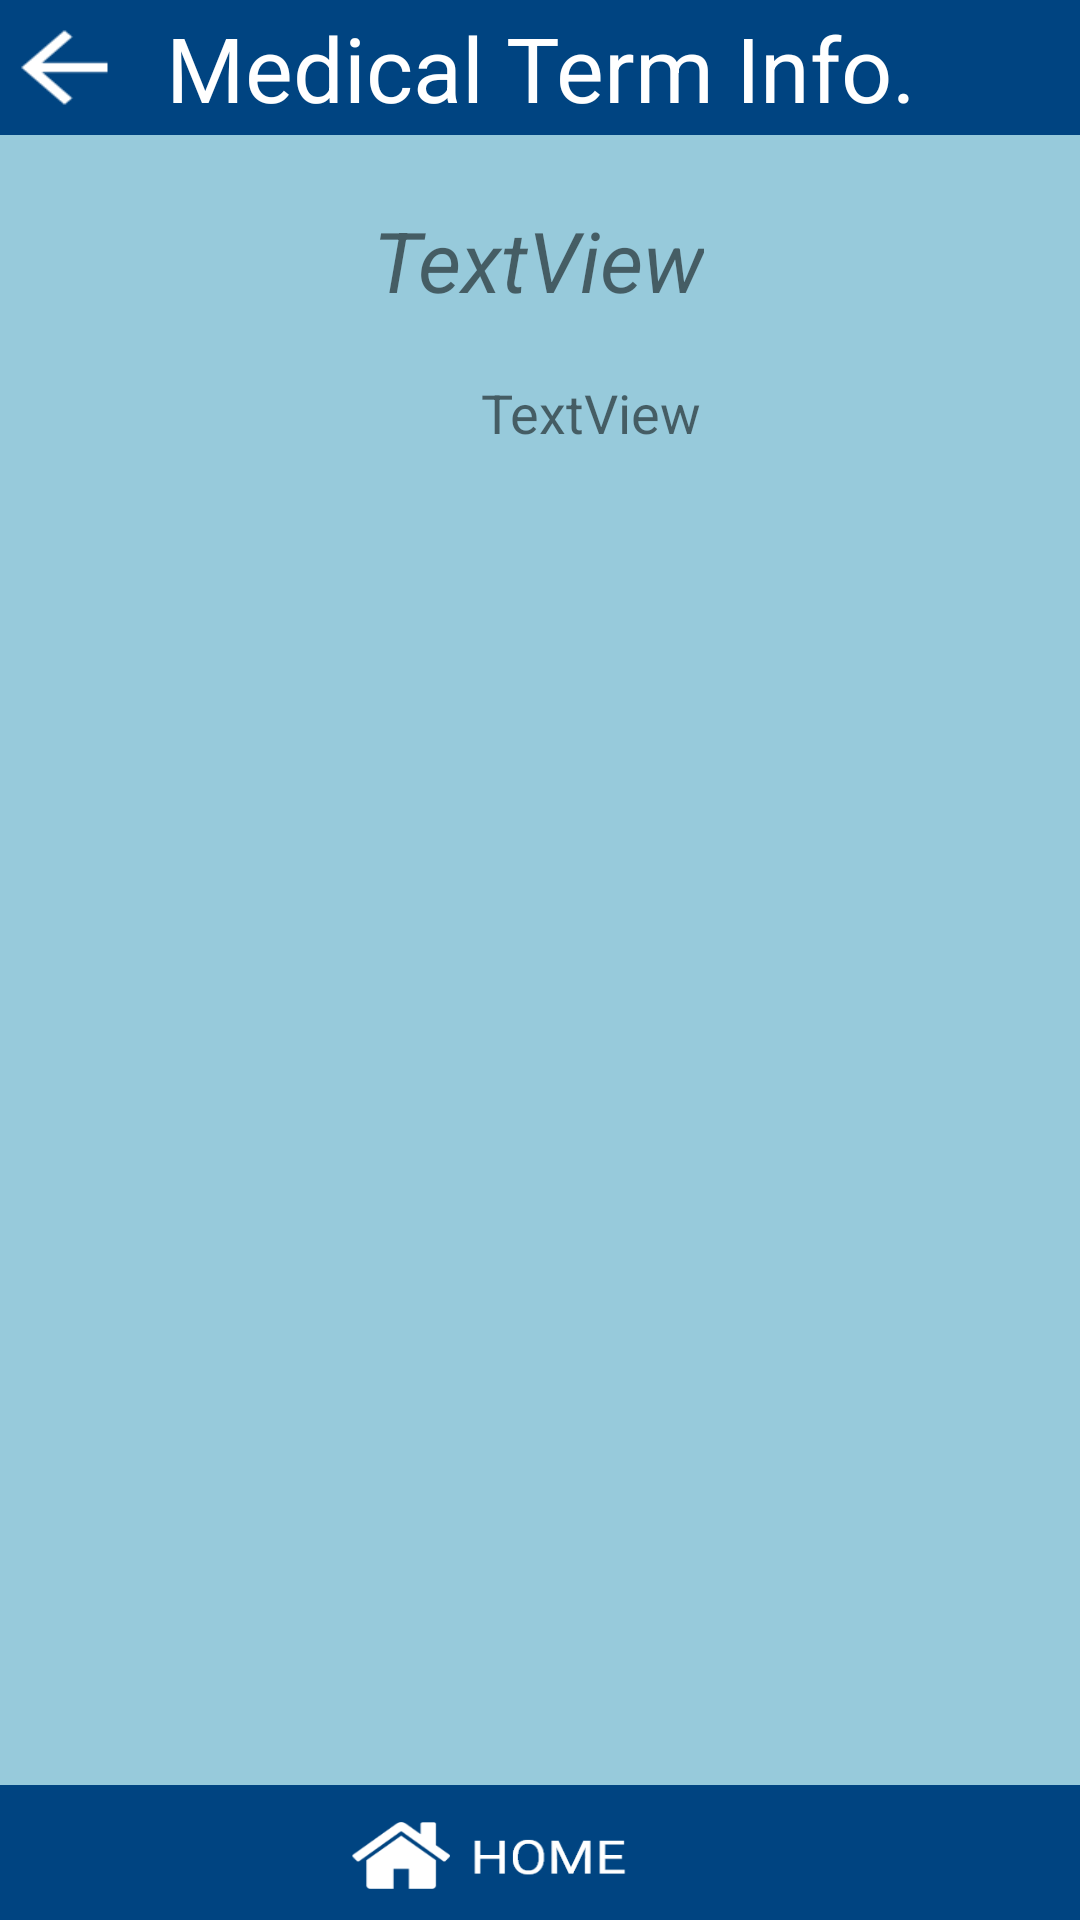

Where to tap for icons on this 1080×1920 app screen, as point (x, y):
back: point (64, 67)
